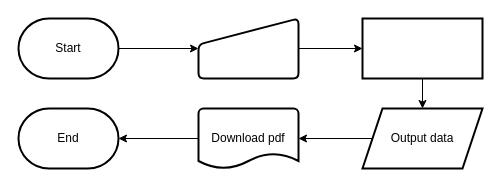
This 500x186 diagram has some shape labels left out. The shapes that lost their labels are listed below. From the top down, each one's box as (x1, y1, x2, y2) in pixels, then its label:
(197, 17, 299, 79): Input data
(361, 17, 483, 79): Generate cerificate
